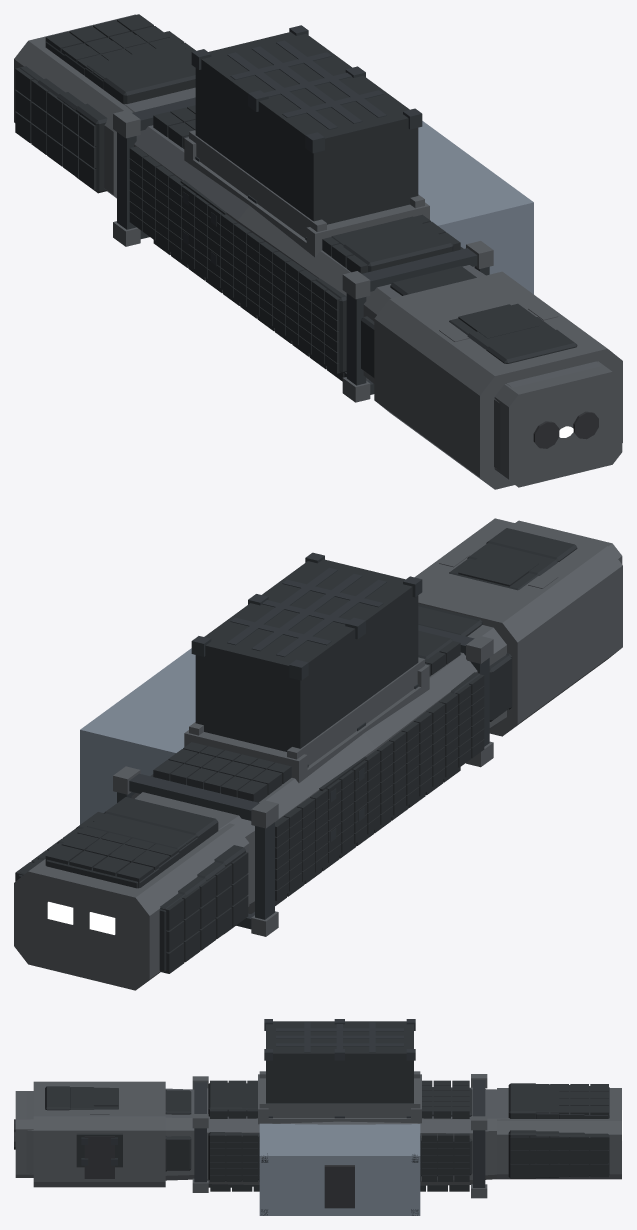
The picture shows the model from 3 angles, top to bottom: view 1: azimuth 30°, elevation 25°; view 2: azimuth 150°, elevation 25°; view 3: azimuth 270°, elevation 25°; orthographic projection. The views are drawn at different scales.
Visible parts, largest first — view 1: RIMWARD_HULL; view 2: RIMWARD_HULL, RIMWARD_EMISSIVE; view 3: RIMWARD_HULL.
Boxes of the visible parts, x1,y1,x2,y2 form: RIMWARD_HULL: (14,14,622,489); RIMWARD_HULL: (14,518,622,990); RIMWARD_EMISSIVE: (47,901,115,934); RIMWARD_HULL: (14,1019,621,1215).
Size of the model in its own units: 1.98 by 1.74 by 6.82.
